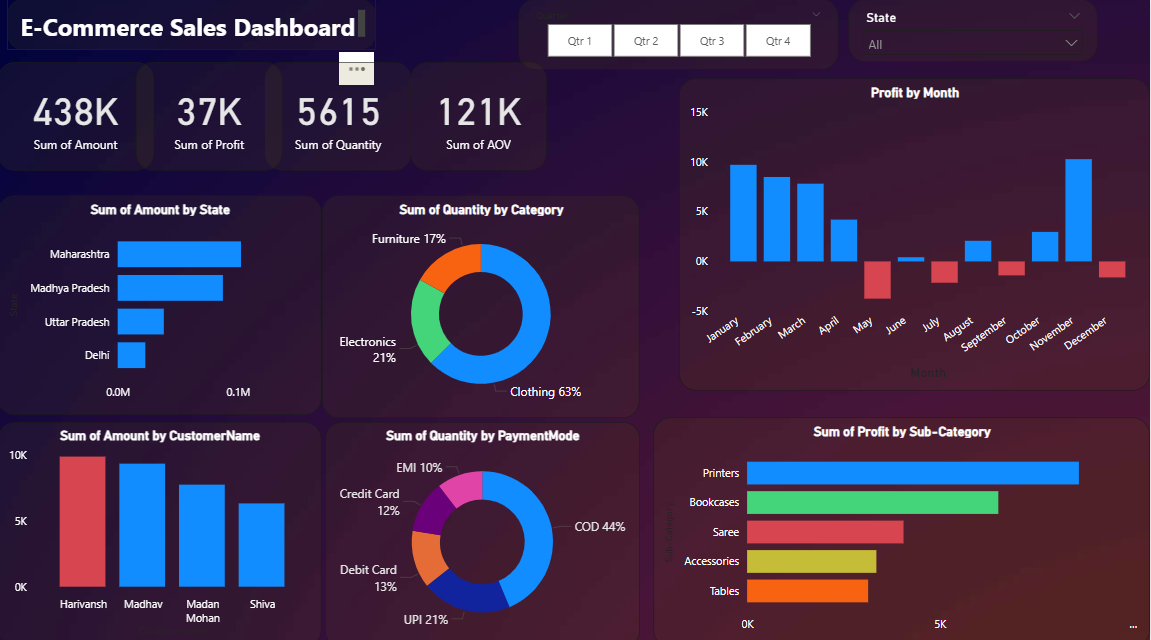

The dashboard page shown, as its layout file describes it:
{"tool":"powerbi","page":{"name":"Page 1","canvas":[1280,720],"ordinal":0},"visuals":[{"type":"textbox","box":[9.4,0,410.1,56.7],"z":0},{"type":"columnChart","title":"Profit by Month","fields":{"Category":["Orders.Order Date.Variation.Date Hierarchy.Month"],"Y":["Details.Profit"]},"box":[756.7,88.3,523.3,346.7],"z":1000},{"type":"barChart","fields":{"Category":["Details.Sub-Category"],"Y":["Details.Profit"]},"box":[728.7,465.2,551.4,255.4],"z":2000},{"type":"donutChart","fields":{"Category":["Details.Category"],"Y":["Details.Quantity"]},"box":[359.5,218,353,247.2],"z":3000},{"type":"donutChart","fields":{"Category":["Details.PaymentMode"],"Y":["Details.Quantity"]},"box":[362.7,470.1,349.7,250.5],"z":4000},{"type":"card","fields":{"Values":["Details.Amount"]},"box":[0,69.9,172.4,120.4],"z":5000},{"type":"card","fields":{"Values":["Details.Quantity"]},"box":[296,69.9,162.7,120.4],"z":6000},{"type":"card","fields":{"Values":["Details.Profit"]},"box":[152.9,69.9,162.7,120.4],"z":7000},{"type":"card","fields":{"Values":["Details.AOV"]},"box":[458.7,69.9,151.3,120.4],"z":8000},{"type":"barChart","fields":{"Category":["Orders.State"],"Y":["Details.Amount"]},"box":[0,218,359.5,244],"z":9000},{"type":"columnChart","fields":{"Category":["Orders.CustomerName"],"Y":["Details.Amount"]},"box":[0,470,359,250],"z":10000},{"type":"slicer","fields":{"Values":["Orders.Order Date.Variation.Date Hierarchy.Quarter"]},"box":[578.3,0,355,78.3],"z":11000},{"type":"slicer","fields":{"Values":["Orders.State"]},"box":[945,0,276.7,70],"z":12000}]}

Visuals, with their boxes in screenshot pixels (x1, y1, x2, y2), scaled from the page's 1280x720 canvas onto the 1151x640 screenshot:
textbox: BBox(8, 0, 377, 50)
"Profit by Month" columnChart: BBox(680, 78, 1150, 387)
barChart - Details.Sub-Category x Details.Profit: BBox(655, 414, 1150, 639)
donutChart - Details.Category x Details.Quantity: BBox(323, 194, 641, 414)
donutChart - Details.PaymentMode x Details.Quantity: BBox(326, 418, 641, 639)
card - Details.Amount: BBox(0, 62, 155, 169)
card - Details.Quantity: BBox(266, 62, 412, 169)
card - Details.Profit: BBox(137, 62, 284, 169)
card - Details.AOV: BBox(412, 62, 549, 169)
barChart - Orders.State x Details.Amount: BBox(0, 194, 323, 411)
columnChart - Orders.CustomerName x Details.Amount: BBox(0, 418, 323, 639)
slicer - Orders.Order Date.Variation.Date Hierarchy.Quarter: BBox(520, 0, 839, 70)
slicer - Orders.State: BBox(850, 0, 1099, 62)
